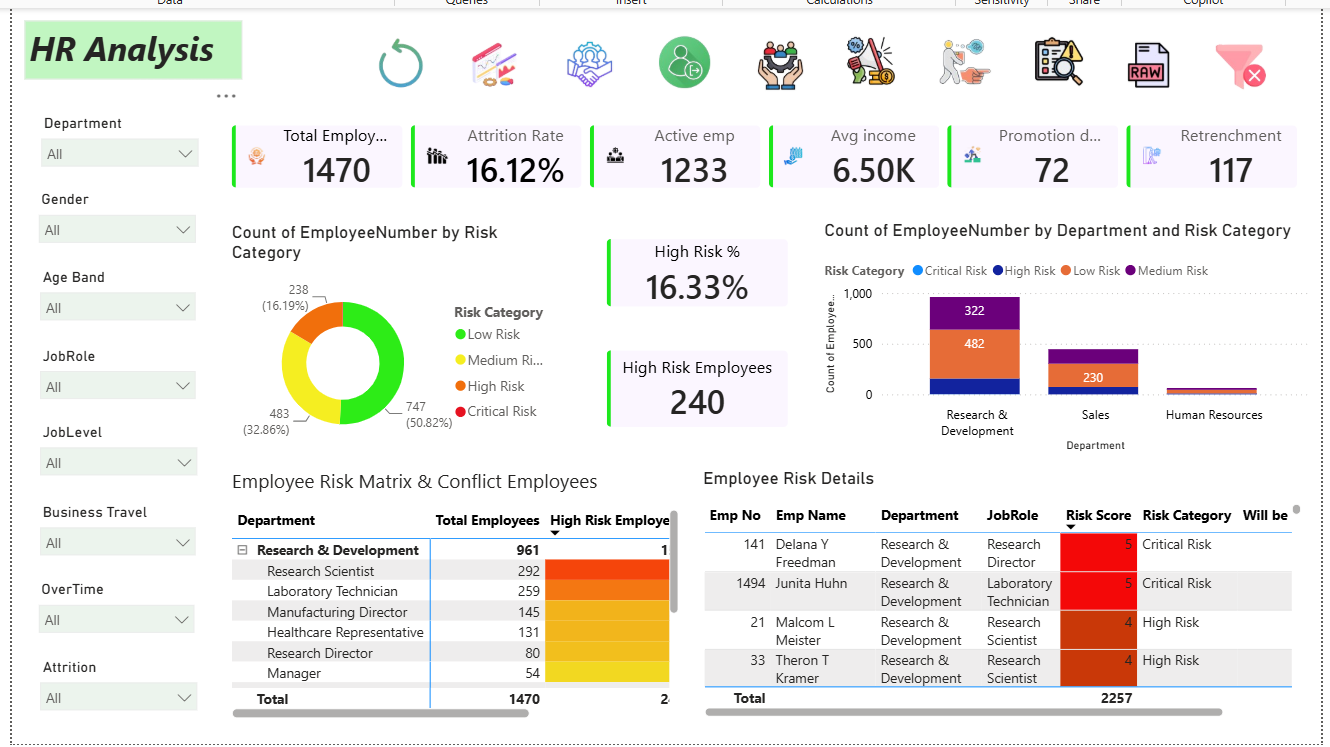

This screenshot's page, from the dashboard's own definition file:
{"tool":"powerbi","page":{"name":"HR Dashboard","canvas":[1280,720],"ordinal":0},"visuals":[{"type":"textbox","box":[12.1,12.1,212.9,57.9],"z":0},{"type":"ChicletSlicer1448559807354","fields":{"Category":["HR Metrics.HR Metrics"]},"box":[199.3,195.7,1081,99],"z":0,"group":"g1"},{"type":"cardVisual","fields":{"Data":["Measures#.Total Employees","Measures#.Attrition Rate","Measures#.Active Employees","Measures#.Average Monthly Income","Measures#.Promotion Due Employees","Measures#.Retrenchment"]},"box":[198.6,98.1,1081.2,95.6],"z":1000},{"type":"ChicletSlicer1448559807354","fields":{"Category":["HR Attributes.HR Attributes"]},"box":[199.3,303.3,1081,97.8],"z":1000,"group":"g1"},{"type":"slicer","fields":{"Values":["Employee_Master.Department"]},"box":[17.9,98.6,173.6,68.5],"z":2000},{"type":"clusteredColumnChart","fields":{"Category":["Employee_Master.JobLevel"],"Y":["Measures#.Retention Rate","Measures#.Attrition Rate"]},"box":[225,410.9,1043.1,288.6],"z":2000,"group":"g1"},{"type":"slicer","fields":{"Values":["Employee_Master.Gender"]},"box":[16.2,173.8,173.8,68.7],"z":3000},{"type":"slicer","fields":{"Values":["Employee_Master.Age Band"]},"box":[17.5,249.3,172.5,68.7],"z":4000},{"type":"slicer","fields":{"Values":["Employee_Master.JobRole"]},"box":[17.5,326.1,172.5,68.7],"z":5000},{"type":"slicer","fields":{"Values":["Employee_Master.OverTime"]},"box":[16.2,555.2,172.5,68.7],"z":6000},{"type":"slicer","fields":{"Values":["Employee_Master.JobLevel"]},"box":[17.5,401.6,173.8,68.7],"z":7000},{"type":"slicer","fields":{"Values":["Employee_Master.Business Travel"]},"box":[17.5,479.8,172.5,68.7],"z":8000},{"type":"slicer","fields":{"Values":["Employee_Master.Attrition"]},"box":[17.5,630.7,173.8,68.7],"z":9000},{"type":"image","box":[434.2,21,78.2,70.1],"z":10000},{"type":"image","box":[803.5,21,78.2,70.1],"z":11000},{"type":"image","title":"Reset","box":[342.6,21,78,70],"z":12000},{"type":"image","box":[525.9,21,78.2,70.1],"z":13000},{"type":"image","box":[617.5,21,78.2,70.1],"z":14000},{"type":"image","box":[711.8,21,78.2,70.1],"z":15000},{"type":"image","box":[984.3,21.1,78.2,69.5],"z":16000},{"type":"image","box":[1075,21.1,78.2,69.5],"z":17000},{"type":"image","box":[1165.6,21.1,78.2,69.5],"z":18000},{"type":"group","id":"g1","title":"HR Analysis Panel","box":[199.3,195.7,1081,503.8],"z":19000},{"type":"image","box":[893.7,21.1,78.2,69.5],"z":24000}]}

Visuals, with their boxes on the page's 1280x720 design canvas (x1, y1, x2, y2). These are canvas units, not pixel positions in the 1330x747 screenshot, which may show the page scaled, cropped or inside an application window:
textbox: bbox=(12, 12, 225, 70)
ChicletSlicer1448559807354 - HR Metrics.HR Metrics: bbox=(199, 196, 1280, 295)
cardVisual - Measures#.Total Employees x Measures#.Attrition Rate: bbox=(199, 98, 1280, 194)
ChicletSlicer1448559807354 - HR Attributes.HR Attributes: bbox=(199, 303, 1280, 401)
slicer - Employee_Master.Department: bbox=(18, 99, 192, 167)
clusteredColumnChart - Employee_Master.JobLevel x Measures#.Retention Rate: bbox=(225, 411, 1268, 700)
slicer - Employee_Master.Gender: bbox=(16, 174, 190, 242)
slicer - Employee_Master.Age Band: bbox=(18, 249, 190, 318)
slicer - Employee_Master.JobRole: bbox=(18, 326, 190, 395)
slicer - Employee_Master.OverTime: bbox=(16, 555, 189, 624)
slicer - Employee_Master.JobLevel: bbox=(18, 402, 191, 470)
slicer - Employee_Master.Business Travel: bbox=(18, 480, 190, 548)
slicer - Employee_Master.Attrition: bbox=(18, 631, 191, 699)
image: bbox=(434, 21, 512, 91)
image: bbox=(804, 21, 882, 91)
"Reset" image: bbox=(343, 21, 421, 91)
image: bbox=(526, 21, 604, 91)
image: bbox=(618, 21, 696, 91)
image: bbox=(712, 21, 790, 91)
image: bbox=(984, 21, 1062, 91)
image: bbox=(1075, 21, 1153, 91)
image: bbox=(1166, 21, 1244, 91)
"HR Analysis Panel" group: bbox=(199, 196, 1280, 700)
image: bbox=(894, 21, 972, 91)
